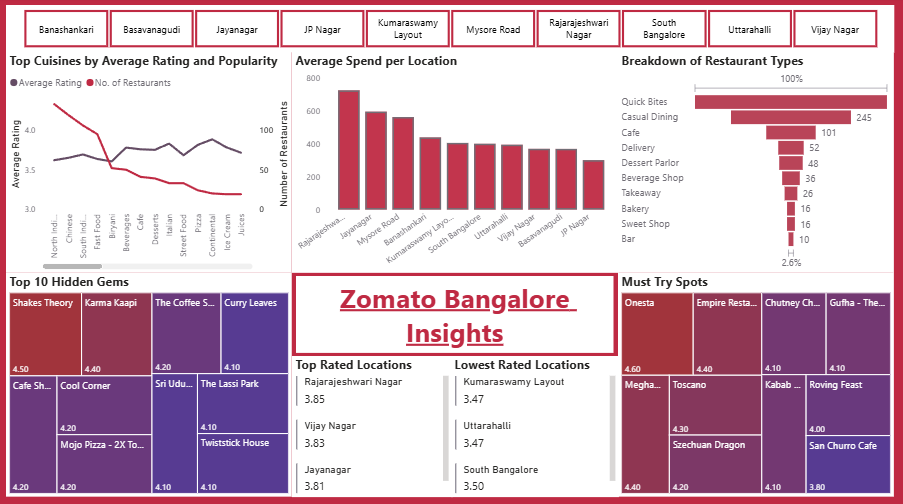

The dashboard page shown, as its layout file describes it:
{"tool":"powerbi","page":{"name":"Page 1","canvas":[1280,720],"ordinal":0},"visuals":[{"type":"treemap","title":"Top 10 Hidden Gems","fields":{"Values":["Avg(Sheet1.rate)"],"Group":["Sheet1.name"]},"box":[9.9,391.2,405.4,317.5],"z":0},{"type":"lineChart","title":"Top Cuisines by Average Rating and Popularity","fields":{"Category":["Sheet1.cuisines"],"Y":["Avg(Sheet1.rate)"],"Y2":["CountNonNull(Sheet1.name)"]},"box":[9.9,78,405.4,313.2],"z":1000},{"type":"slicer","fields":{"Values":["Sheet1.location"]},"box":[9.9,11.3,1258.6,66.6],"z":2000},{"type":"multiRowCard","title":"Top Rated Locations","fields":{"Values":["Sheet1.location","Avg(Sheet1.rate)"]},"box":[415.3,508.8,226.8,199.8],"z":3000},{"type":"columnChart","title":"Average Spend per Location","fields":{"Category":["Sheet1.location"],"Y":["Avg(Sheet1.approx_cost(for two people))"]},"box":[415.3,78,463.5,313.2],"z":4000},{"type":"funnel","title":"Breakdown of Restaurant Types","fields":{"Category":["Sheet1.rest_type"],"Y":["CountNonNull(Sheet1.name)"]},"box":[877.3,78,391.2,313.2],"z":5000},{"type":"multiRowCard","title":"Lowest Rated Locations","fields":{"Values":["Sheet1.location","Avg(Sheet1.rate)"]},"box":[640.6,508.8,238.1,199.8],"z":6000},{"type":"treemap","title":"Must Try Spots","fields":{"Group":["Sheet1.name"],"Values":["Avg(Sheet1.rate)"]},"box":[877.3,391.2,391.2,317.5],"z":7000},{"type":"textbox","box":[421,395.4,450,109],"z":8000}]}

Visuals, with their boxes in screenshot pixels (x1, y1, x2, y2), scaled from the page's 1280x720 canvas onto the 903x504 screenshot:
"Top 10 Hidden Gems" treemap: bbox=(7, 274, 293, 496)
"Top Cuisines by Average Rating and Popularity" lineChart: bbox=(7, 55, 293, 274)
slicer - Sheet1.location: bbox=(7, 8, 895, 55)
"Top Rated Locations" multiRowCard: bbox=(293, 356, 453, 496)
"Average Spend per Location" columnChart: bbox=(293, 55, 620, 274)
"Breakdown of Restaurant Types" funnel: bbox=(619, 55, 895, 274)
"Lowest Rated Locations" multiRowCard: bbox=(452, 356, 620, 496)
"Must Try Spots" treemap: bbox=(619, 274, 895, 496)
textbox: bbox=(297, 277, 614, 353)
